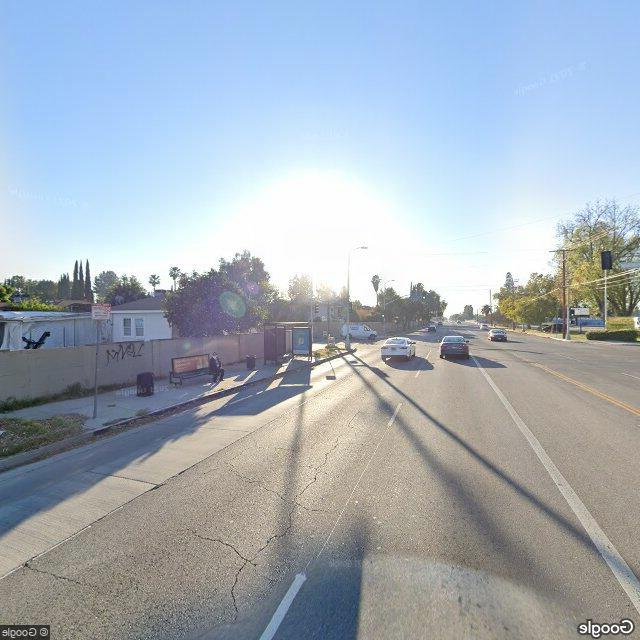crack: (184, 415, 370, 618), (224, 468, 332, 509), (178, 522, 248, 556), (23, 561, 103, 589)
